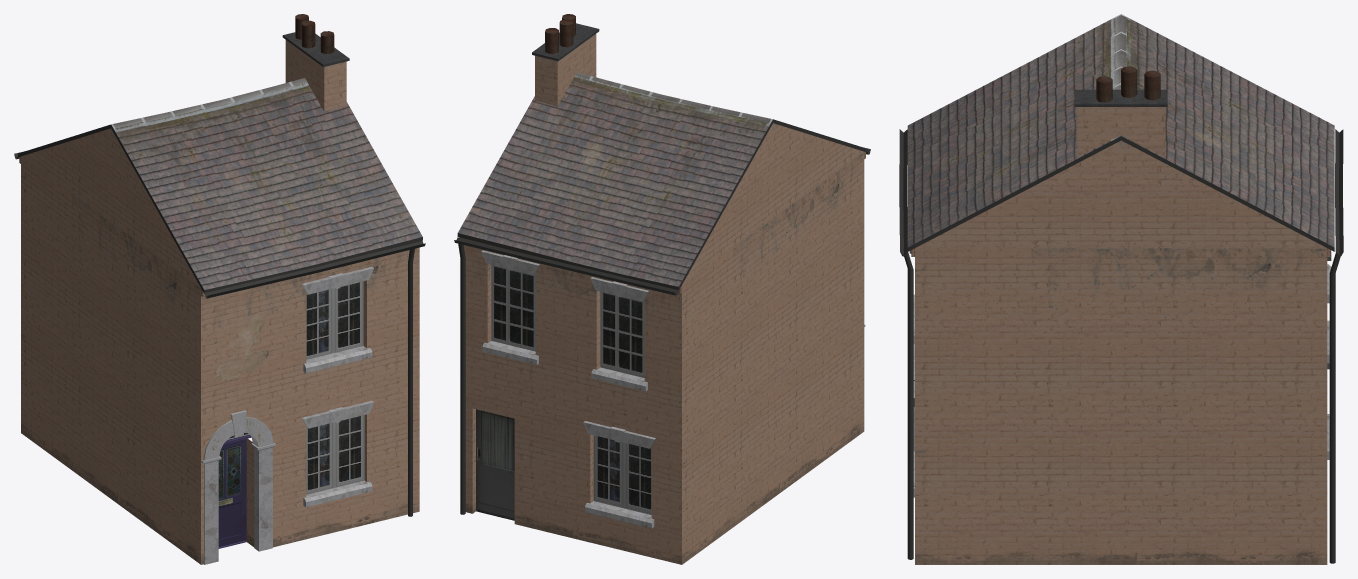
File: ukterracedvictorian7bm.FBX
The picture shows the model from 3 angles, left to right: view 1: azimuth 30°, elevation 25°; view 2: azimuth 150°, elevation 25°; view 3: azimuth 270°, elevation 25°; orthographic projection. The views are drawn at different scales.
Visible parts, largest first — view 1: Object003; view 2: Object003; view 3: Object003.
Boxes of the visible parts, x1,y1,x2,y2 form: Object003: (14,14,425,564); Object003: (454,14,870,564); Object003: (899,14,1343,564).
Size of the model in its own units: 560 by 1040 by 862.
